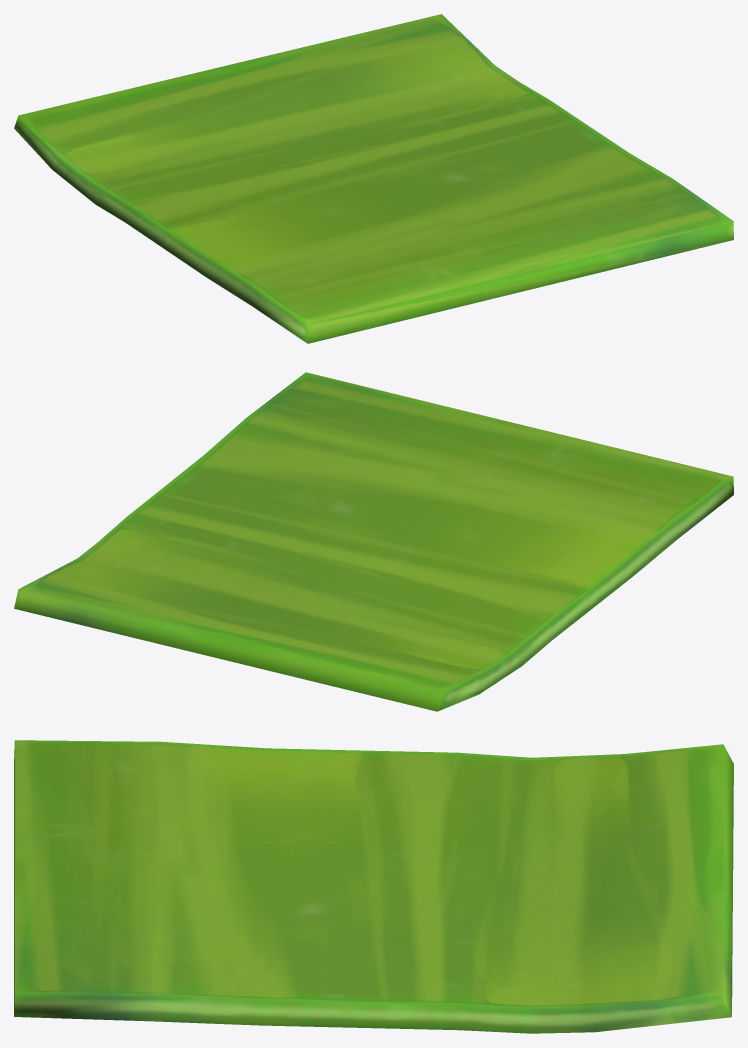
Rendered from caoban2.fbx.
The picture shows the model from 3 angles, top to bottom: view 1: azimuth 30°, elevation 25°; view 2: azimuth 150°, elevation 25°; view 3: azimuth 270°, elevation 25°; orthographic projection. The views are drawn at different scales.
Parts seen in each view (by area): view 1: caoban2; view 2: caoban2; view 3: caoban2.
Boxes of the visible parts, <box> form: caoban2: <box>14,14,733,343</box>; caoban2: <box>14,372,733,711</box>; caoban2: <box>14,740,733,1033</box>.
Bounding box in the file's own units: 118 × 8.96 × 140.
